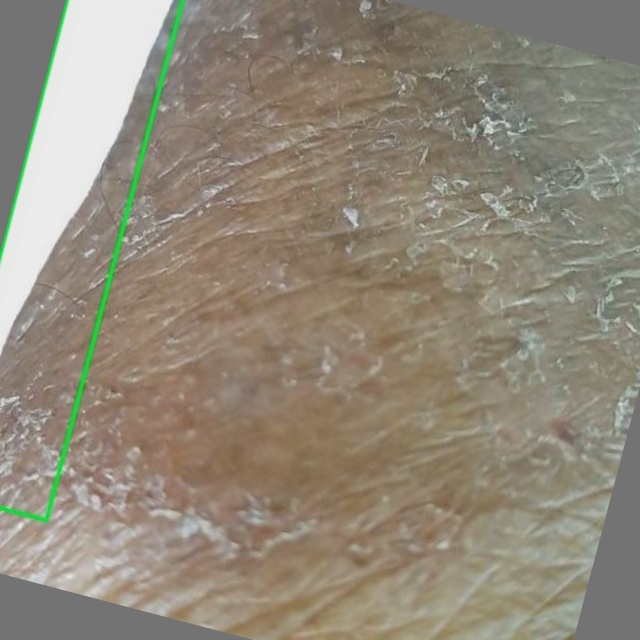Tinea Corporis: (0, 0, 182, 520)
